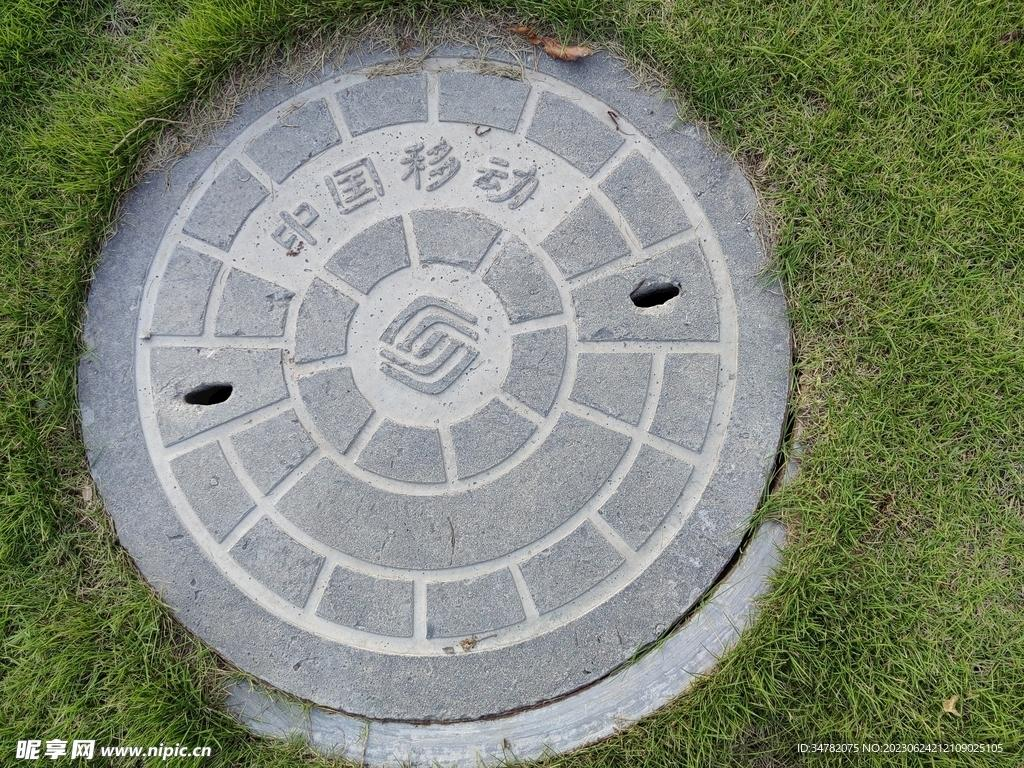wellcover: (29, 15, 817, 756)
